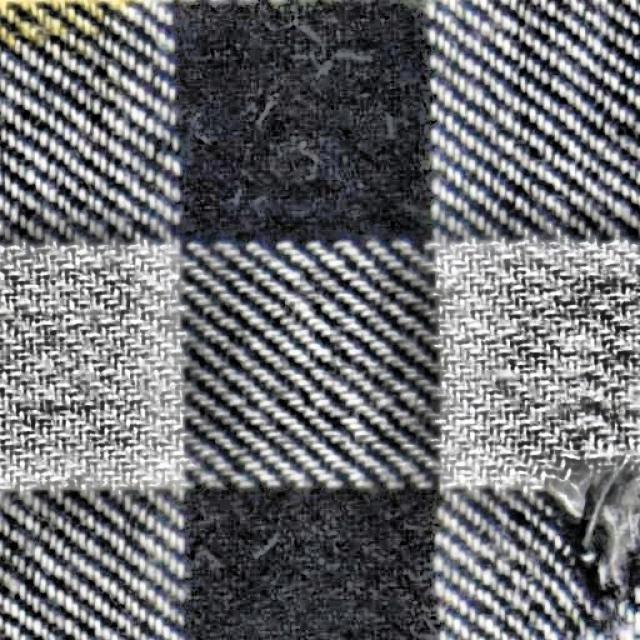cut: (523, 458, 639, 639)
